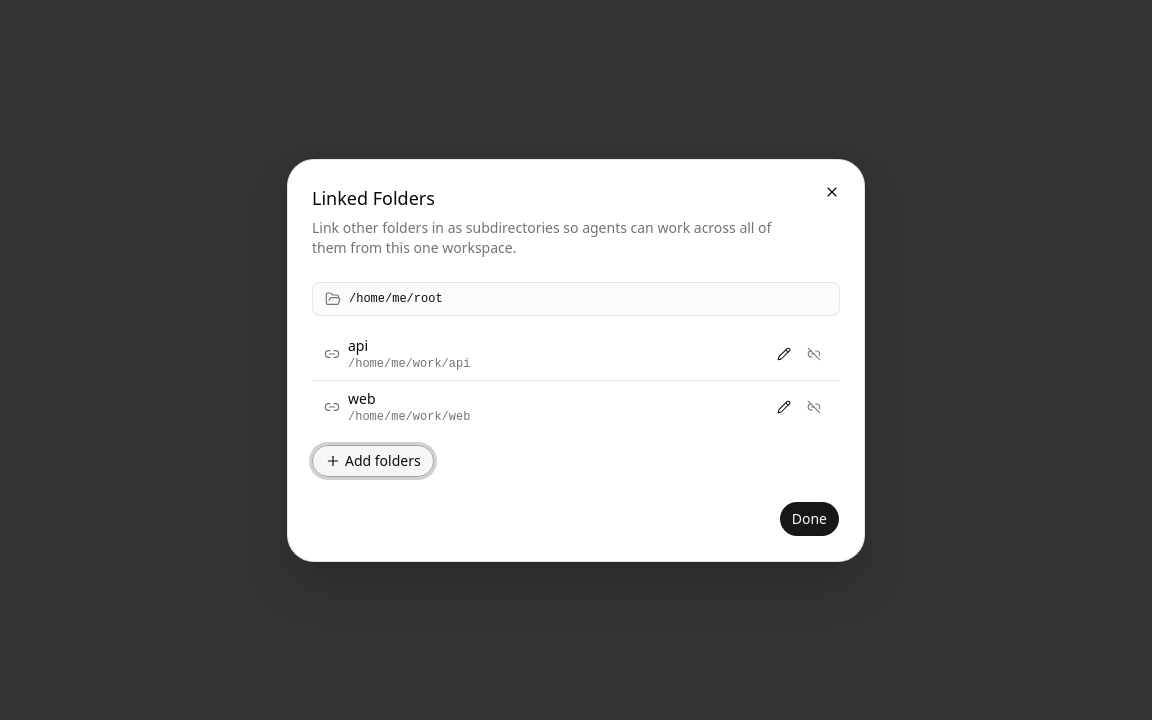
Test: WorkspaceFolderDialog — manage mode › blocks a rename that duplicates another link's name
The width and height of the screenshot is (1152, 720).
Expected: the text "api" is shown, [348,336,368,354]
Click the button named "Rename" in the row of "/home/me/work/api" at [784, 354], box [770,340,798,368]
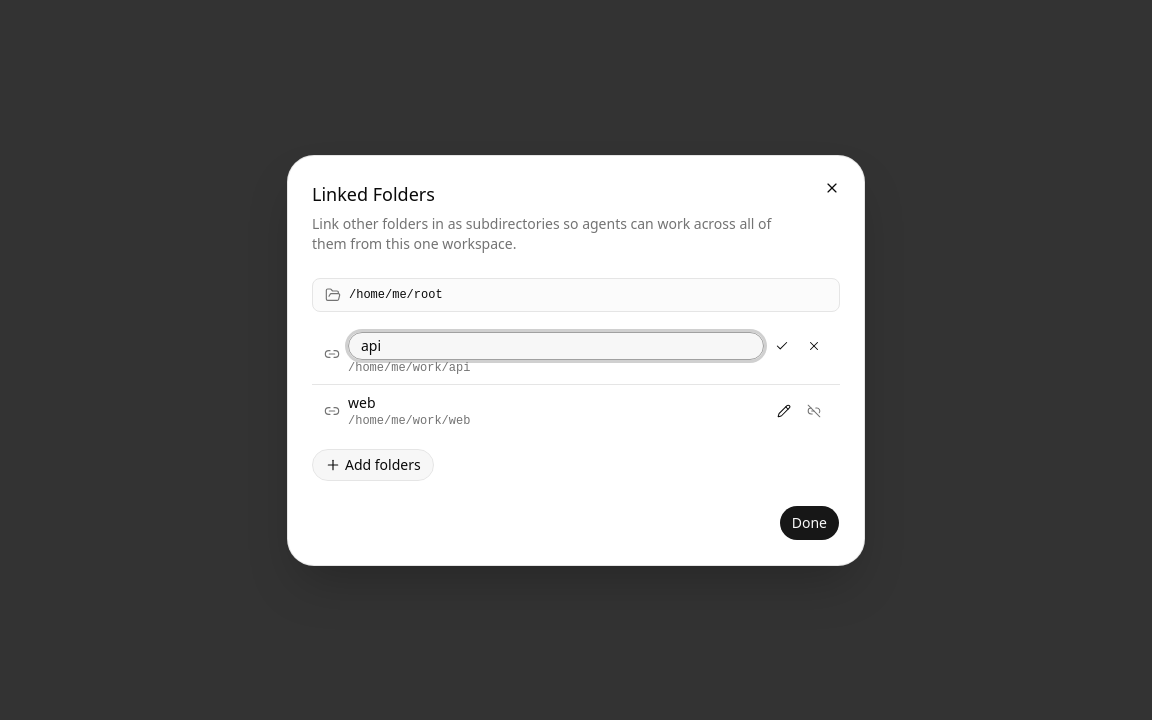
Case-insensitive: `WEB` and `web` are the same entry on macOS/Windows.
Replace the text in the field showing "api" with "WEB" at [556, 346], box [348,332,764,360]
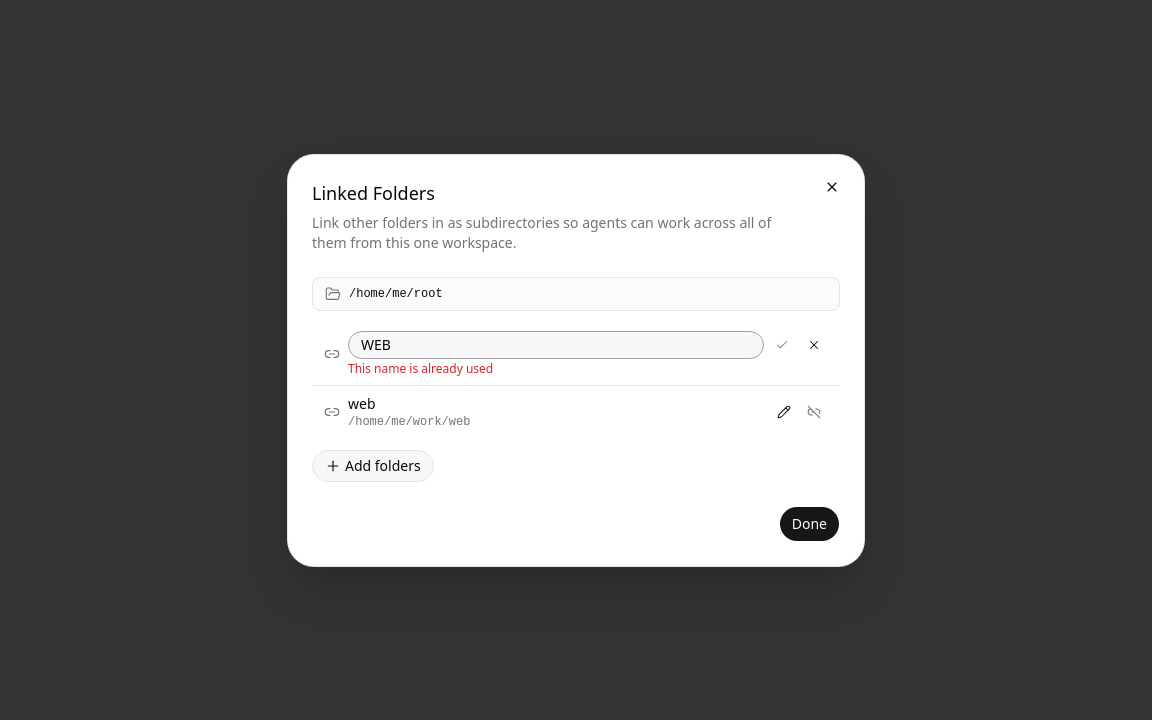
Expected: the button named "Save" is disabled, [768,330,796,358]
Result: the text "This name is already used" is shown at [348,360,493,376]
